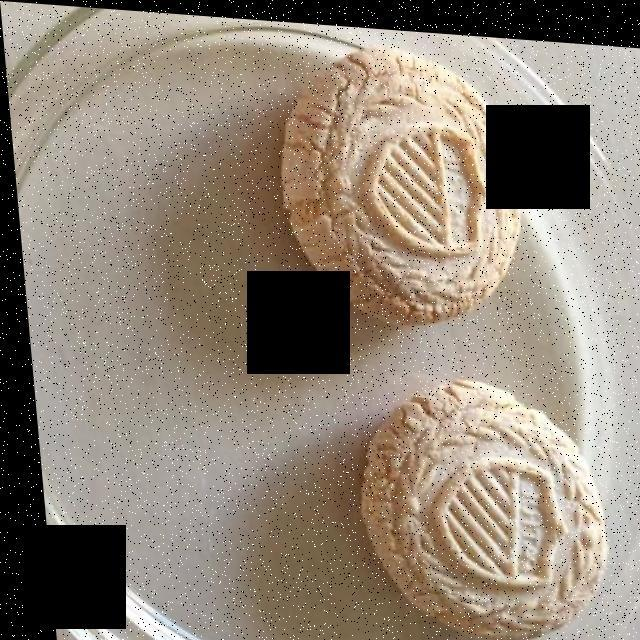biscuits: (280, 42, 517, 317), (356, 375, 597, 631)
